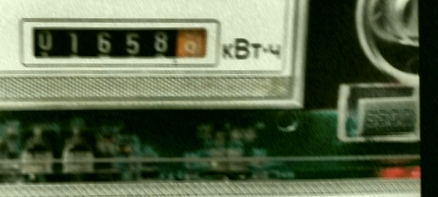0: (36, 28, 53, 50)
1: (66, 29, 80, 53)
5: (124, 30, 140, 54)
6: (95, 30, 113, 54)
8: (152, 30, 169, 52)
9: (181, 37, 197, 59)
screen: (16, 12, 223, 73)
